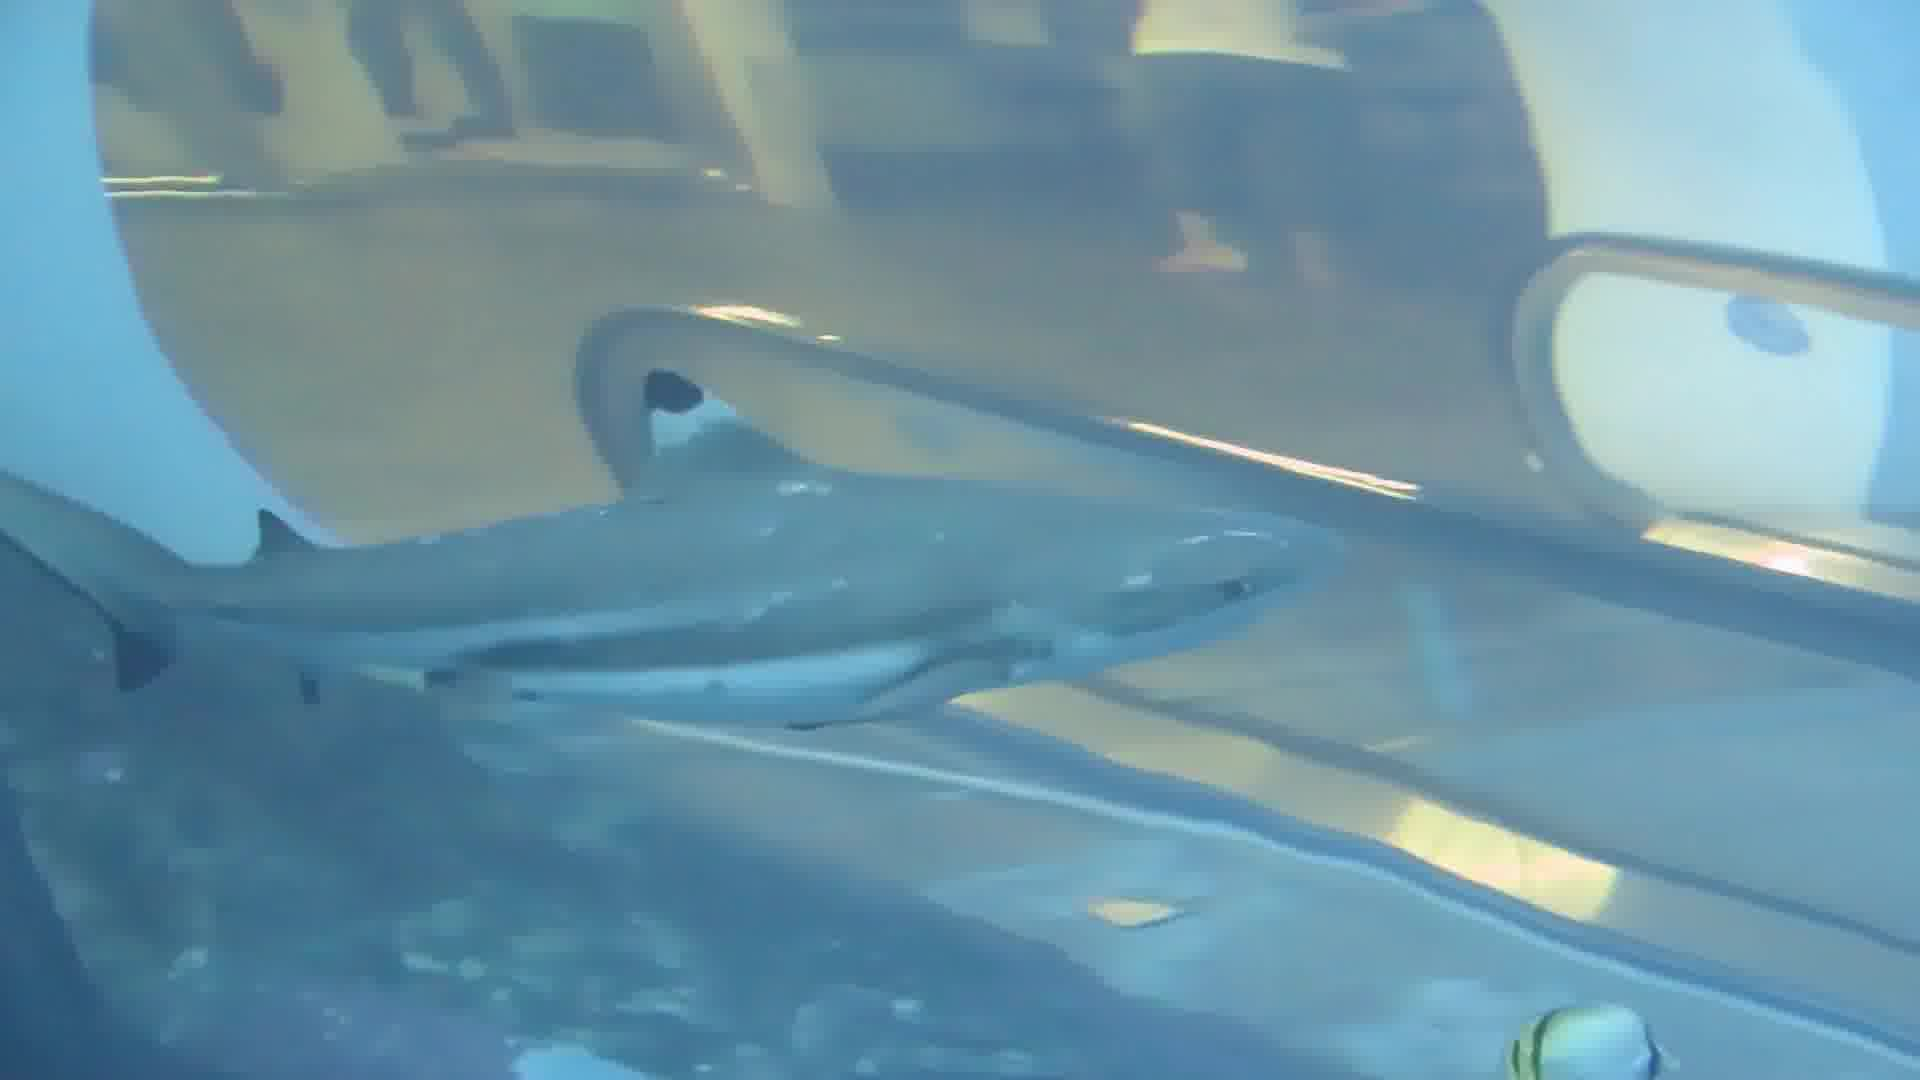Carcharhinus melanopterus: (1, 334, 1378, 796)
